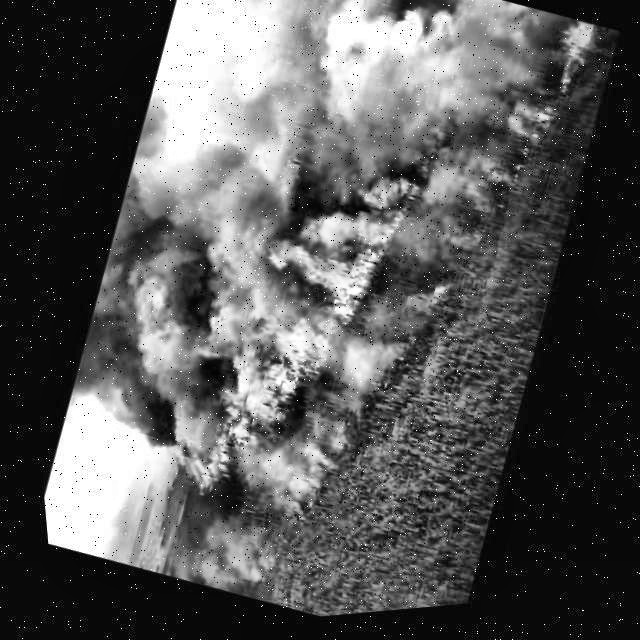Fire: (191, 290, 335, 405), (259, 228, 377, 338), (524, 20, 606, 115), (183, 374, 264, 460)
Smoke: (137, 0, 560, 260), (37, 129, 289, 467), (280, 181, 405, 280)
